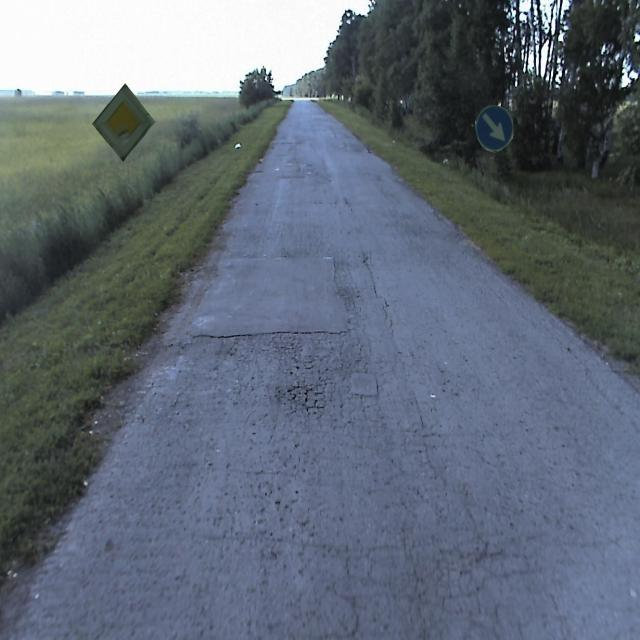road: (5, 96, 639, 639)
